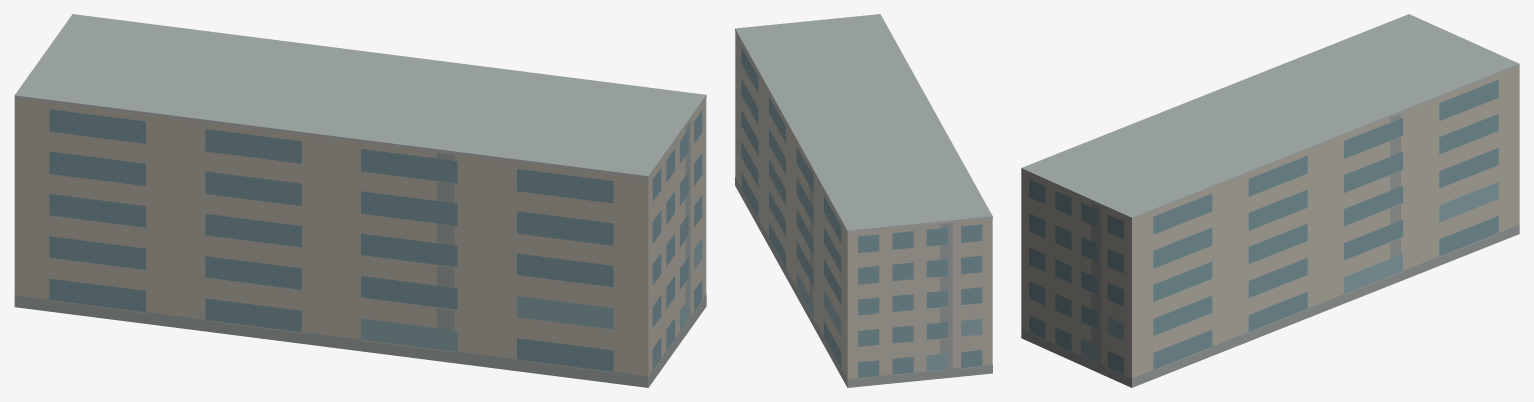
The model's file is residential-a817ca4d-e04d-4b67-92ff-b8cd94be1691.glb.
The picture shows the model from 3 angles, left to right: view 1: azimuth 30°, elevation 25°; view 2: azimuth 150°, elevation 25°; view 3: azimuth 270°, elevation 25°; orthographic projection. The views are drawn at different scales.
Parts seen in each view (by area): view 1: residential-a817ca4d-e04d-4b67-92ff-b8cd94be1691.tmp; view 2: residential-a817ca4d-e04d-4b67-92ff-b8cd94be1691.tmp; view 3: residential-a817ca4d-e04d-4b67-92ff-b8cd94be1691.tmp.
Boxes of the visible parts, <box> form: residential-a817ca4d-e04d-4b67-92ff-b8cd94be1691.tmp: <box>14,14,706,387</box>; residential-a817ca4d-e04d-4b67-92ff-b8cd94be1691.tmp: <box>735,14,992,387</box>; residential-a817ca4d-e04d-4b67-92ff-b8cd94be1691.tmp: <box>1021,14,1519,387</box>.
Bounding box in the file's own units: 39.15 × 15.25 × 40.48.
